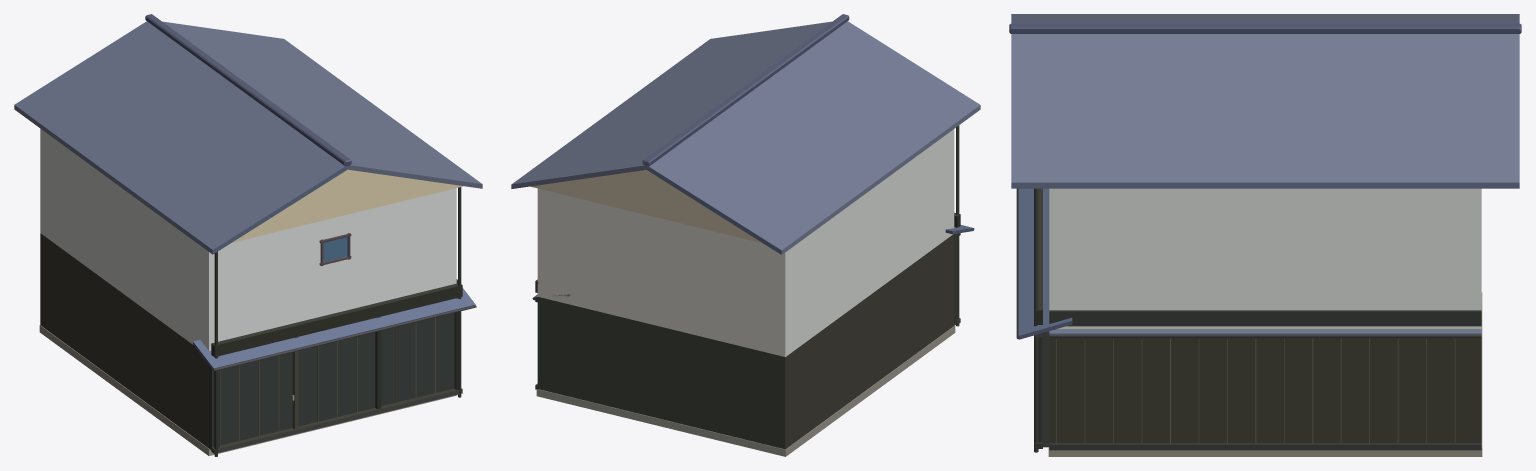
Rendered from ART_WhiteStorehouse.lod.glb.
3 views of the same model, side by side, from view 1: azimuth 30°, elevation 25°; view 2: azimuth 150°, elevation 25°; view 3: azimuth 270°, elevation 25° (orthographic). The views are drawn at different scales.
Visible parts, largest first — view 1: ART_WhiteStorehouse; view 2: ART_WhiteStorehouse; view 3: ART_WhiteStorehouse.
Part boxes in pixels (left/top/right/bottom): ART_WhiteStorehouse: left=14, top=14, right=482, bottom=456; ART_WhiteStorehouse: left=511, top=14, right=980, bottom=456; ART_WhiteStorehouse: left=1009, top=14, right=1521, bottom=456.
Size of the model in its own units: 7.85 by 7.68 by 10.08.
